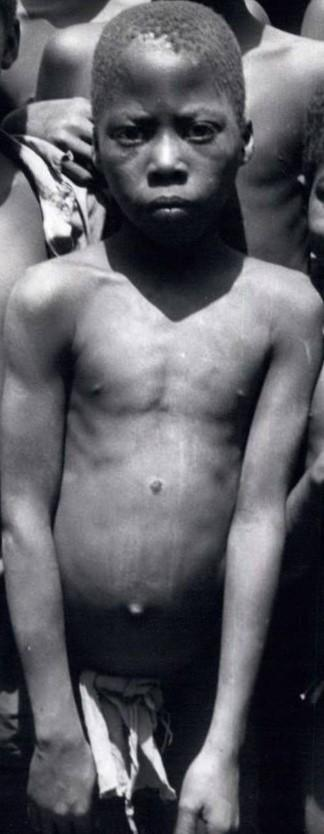Stunting: (62, 6, 318, 302)
